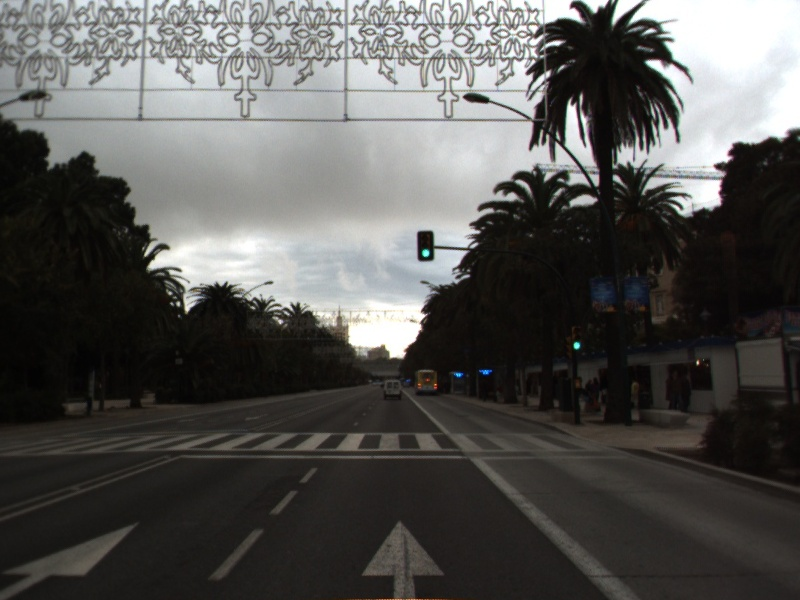STRAIGHT: (1, 518, 143, 600), (359, 518, 447, 600)
